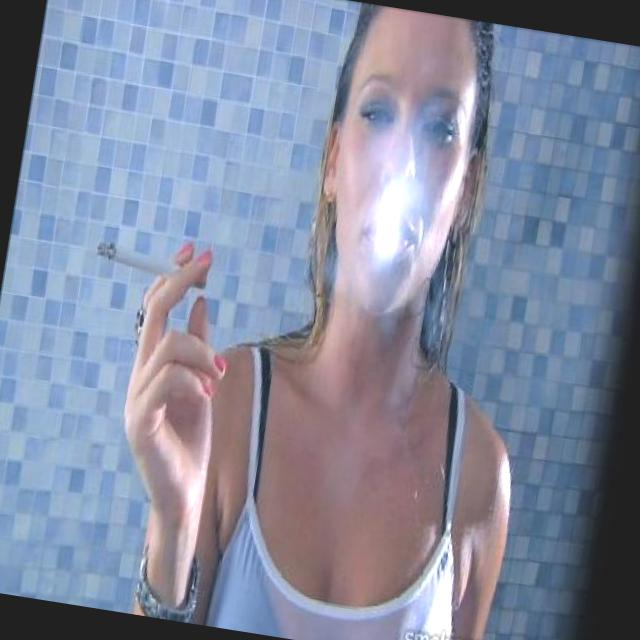smoke: (90, 234, 212, 292)
